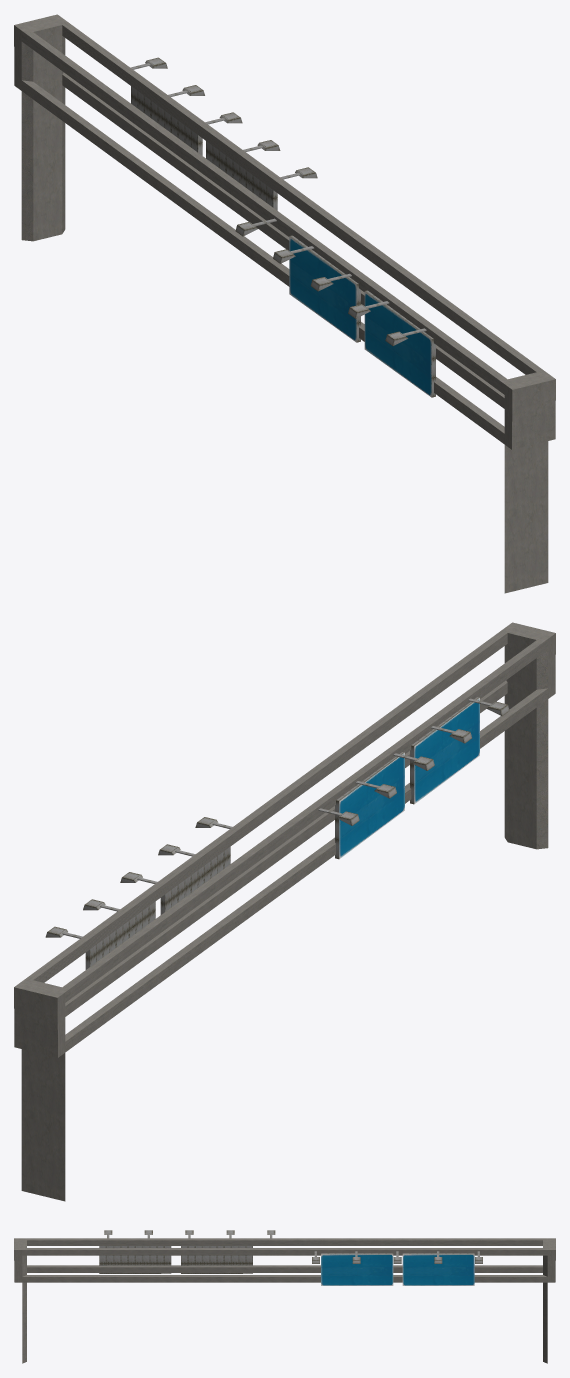
File: nuorodos.obj
The picture shows the model from 3 angles, top to bottom: view 1: azimuth 30°, elevation 25°; view 2: azimuth 150°, elevation 25°; view 3: azimuth 270°, elevation 25°; orthographic projection. The views are drawn at different scales.
Visible parts, largest first — view 1: vegasmotsignCJ; view 2: vegasmotsignCJ; view 3: vegasmotsignCJ.
Boxes of the visible parts, <box> form: vegasmotsignCJ: <box>14,14,555,593</box>; vegasmotsignCJ: <box>14,622,555,1201</box>; vegasmotsignCJ: <box>14,1230,555,1363</box>.
Size of the model in its own units: 5.64 by 9.74 by 42.02.
Materials: 3 (3 with a texture image).
